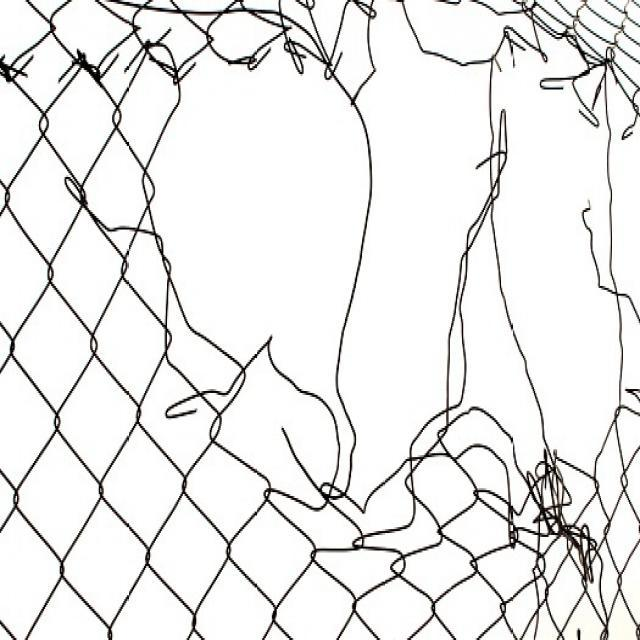fence line: (149, 47, 623, 462)
